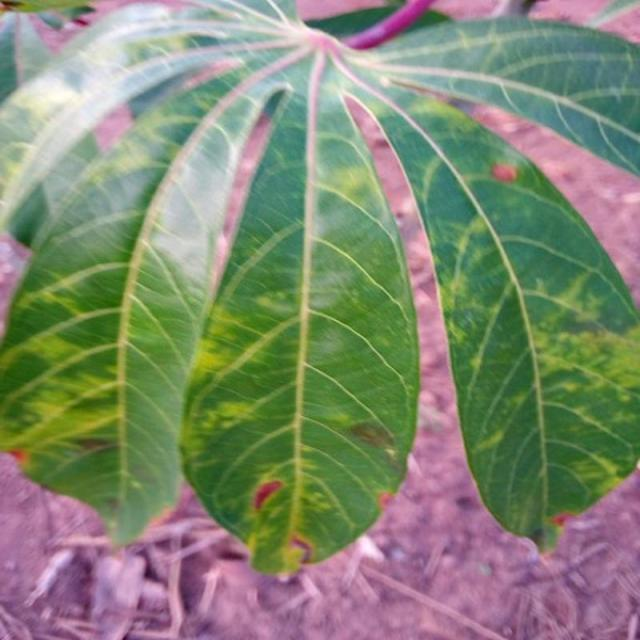cassava leaf: (0, 0, 639, 576), (176, 64, 422, 578)
